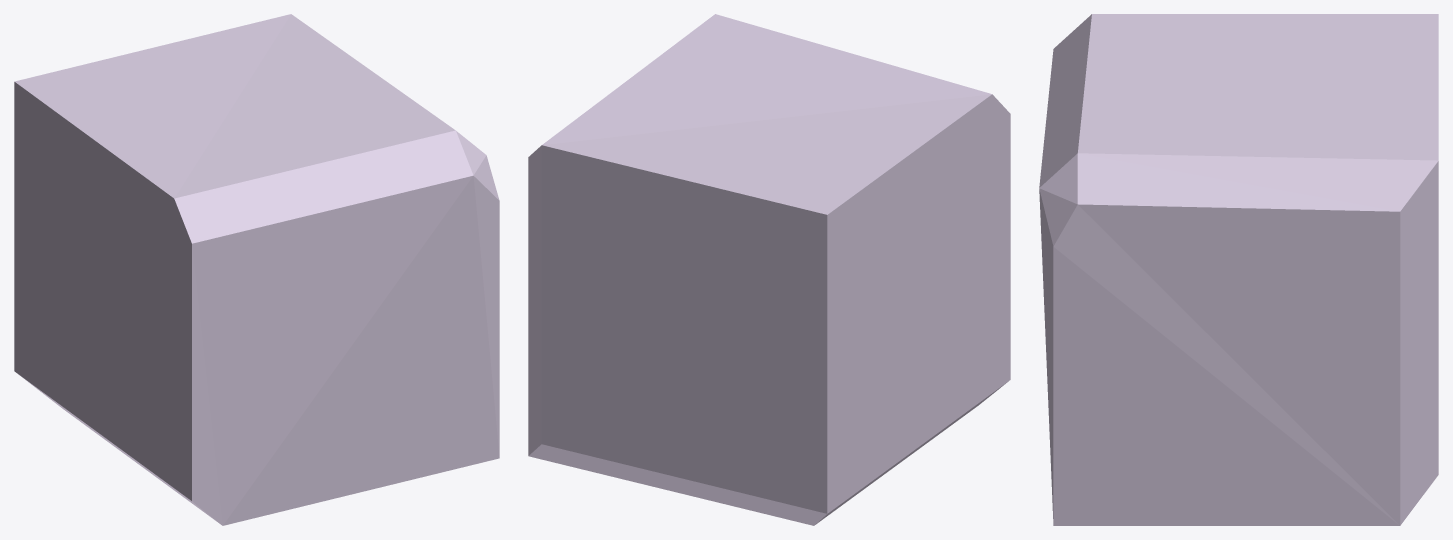
The model's file is glass-rod.glb.
3 views of the same model, side by side, from view 1: azimuth 30°, elevation 25°; view 2: azimuth 150°, elevation 25°; view 3: azimuth 270°, elevation 25° (orthographic). The views are drawn at different scales.
Parts seen in each view (by area): view 1: Cube; view 2: Cube; view 3: Cube.
Part boxes in pixels (x1=…): Cube: x1=14, y1=14, x2=499, y2=525; Cube: x1=528, y1=14, x2=1010, y2=525; Cube: x1=1039, y1=14, x2=1438, y2=525.
Size of the model in its own units: 1.13 by 1.15 by 1.17.
